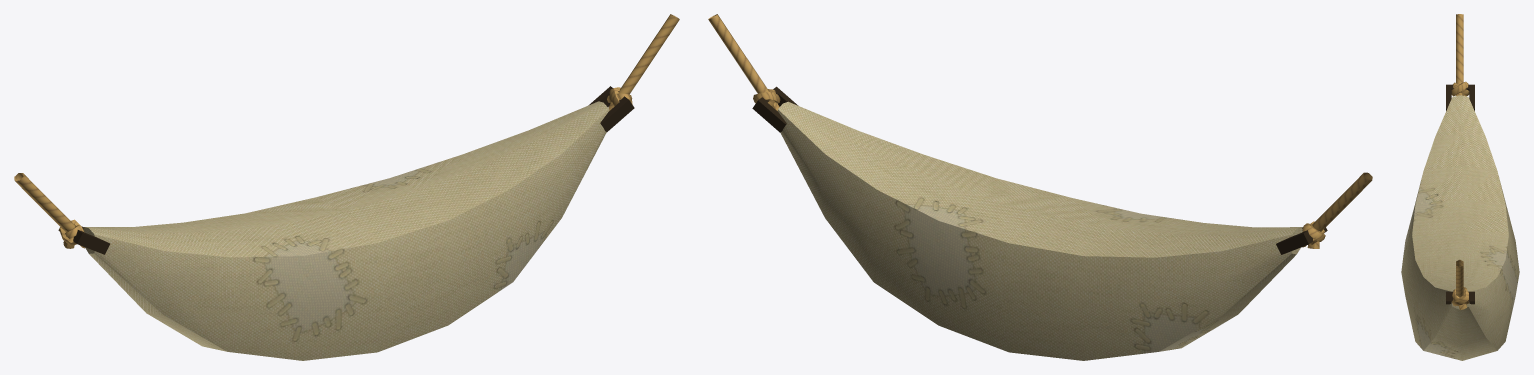
File: hammock.glb
3 renders of one model, left to right at view 1: azimuth 30°, elevation 25°; view 2: azimuth 150°, elevation 25°; view 3: azimuth 270°, elevation 25°, orthographic. The views are drawn at different scales.
Parts seen in each view (by area): view 1: Quest_Pirate1_Hammock; view 2: Quest_Pirate1_Hammock; view 3: Quest_Pirate1_Hammock.
Boxes of the visible parts, left/top/right/bottom form: Quest_Pirate1_Hammock: left=14, top=14, right=679, bottom=360; Quest_Pirate1_Hammock: left=708, top=14, right=1372, bottom=360; Quest_Pirate1_Hammock: left=1401, top=14, right=1519, bottom=360.
Size of the model in its own units: 2.9 by 1.04 by 0.575.
1 material, 1 textured.
